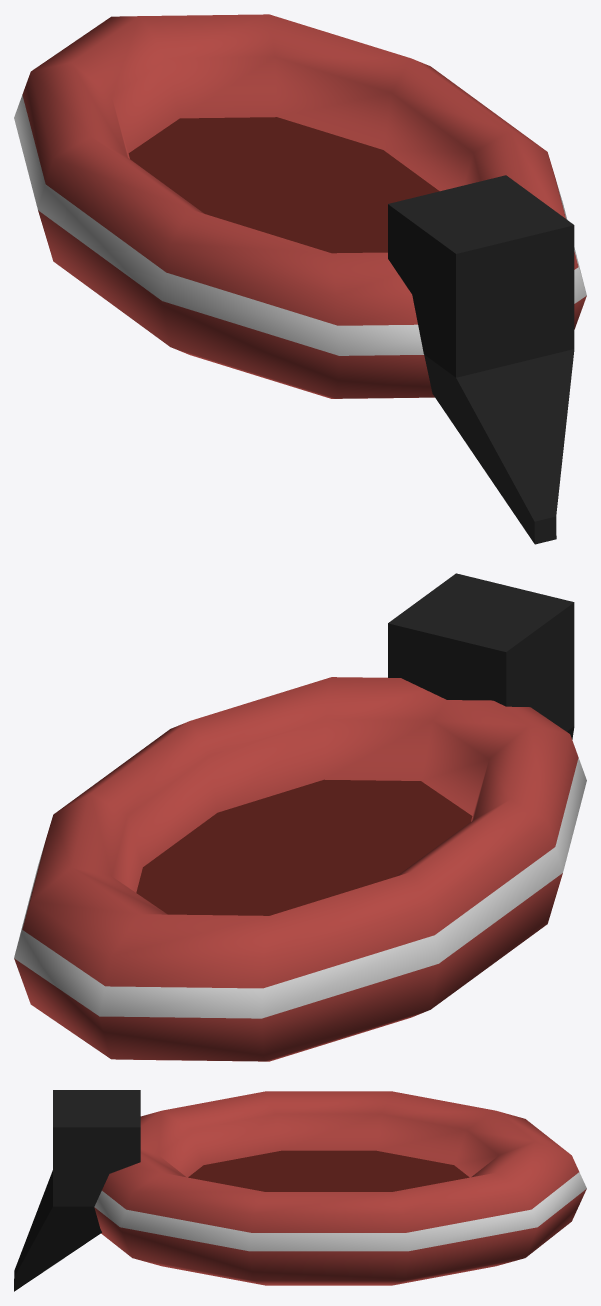
Rendered from Boat.fbx.
3 views of the same model, one above another, from view 1: azimuth 30°, elevation 25°; view 2: azimuth 150°, elevation 25°; view 3: azimuth 270°, elevation 25° (orthographic). The views are drawn at different scales.
Visible parts, largest first — view 1: Torus; view 2: Torus; view 3: Torus.
Part boxes in pixels (left/top/right/bottom): Torus: left=14, top=14, right=586, bottom=544; Torus: left=14, top=573, right=586, bottom=1061; Torus: left=14, top=1090, right=586, bottom=1291.
Bounding box in the file's own units: 144 × 96.09 × 277.
